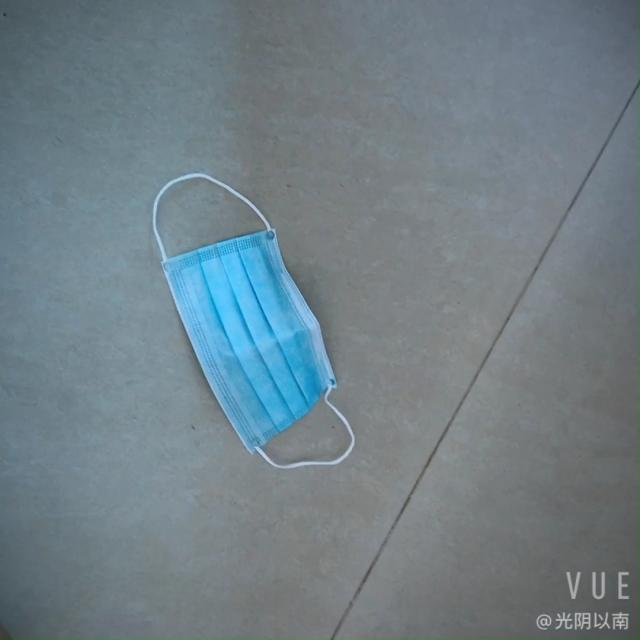face mask: (160, 219, 348, 455)
